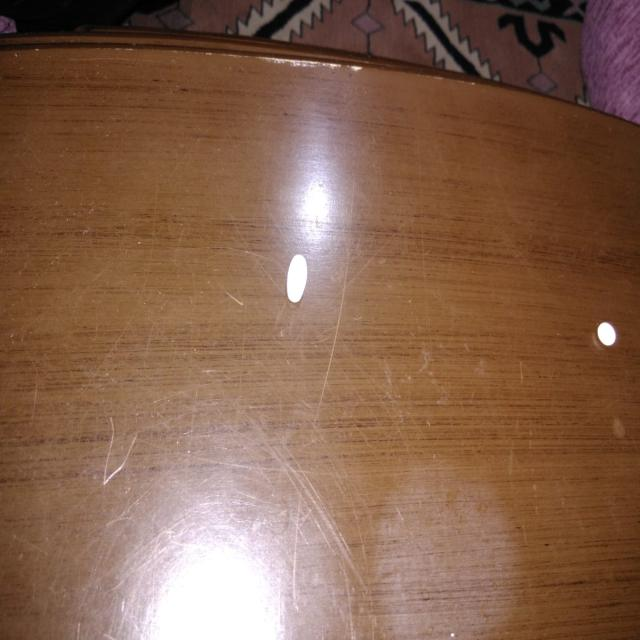pills: (283, 239, 321, 310)
